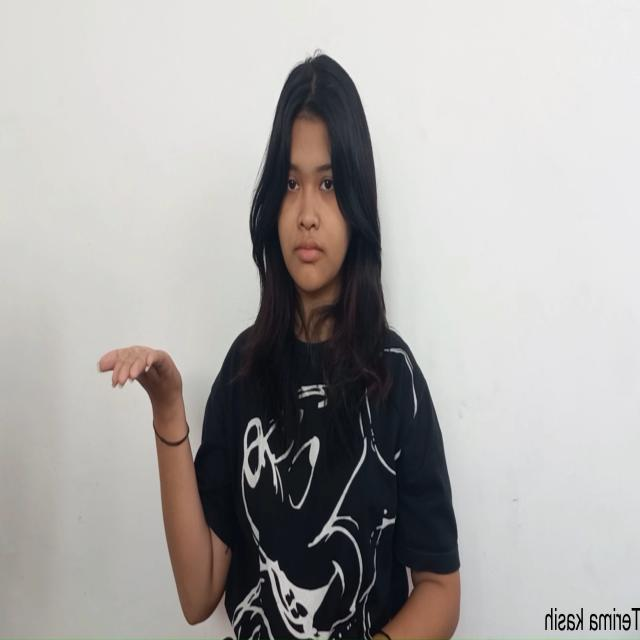Terima kasih -BISINDO-: (92, 342, 188, 418)
